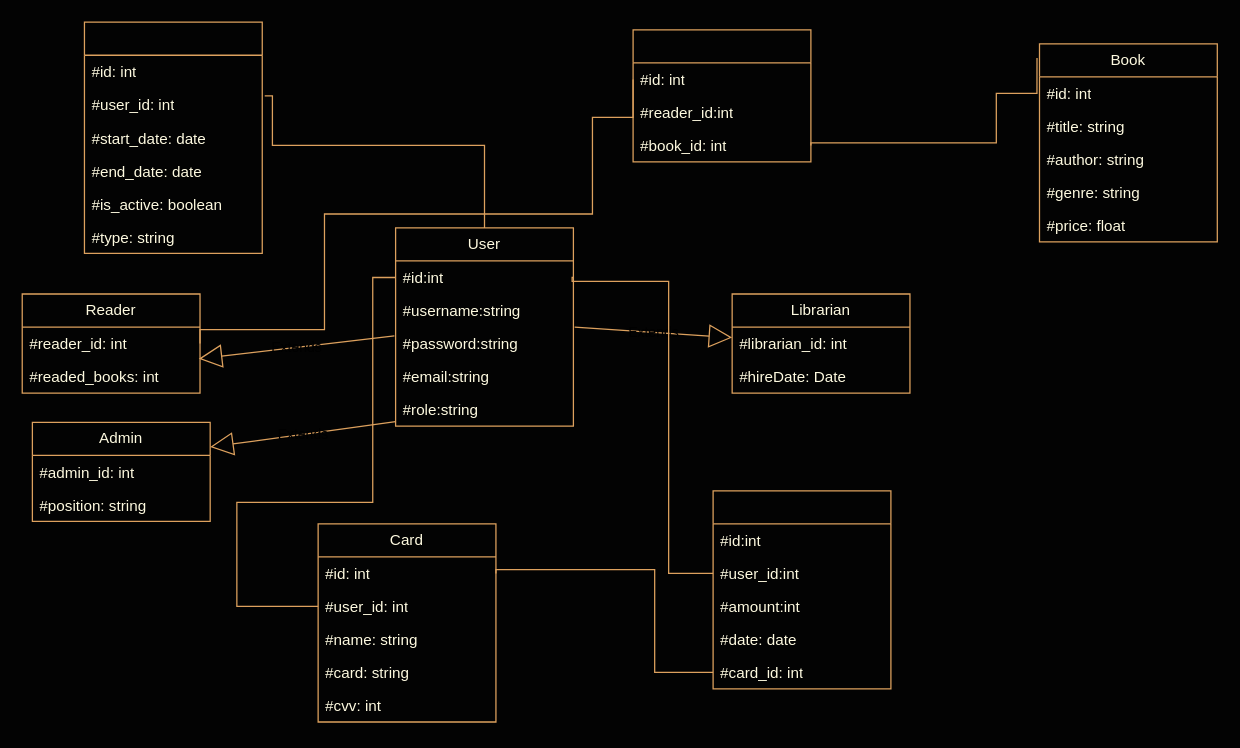
The diagram is 1240 pixels wide and 748 high, and some of its shapes have lost their labels. Here are the shapes that lost their labels. From the top down, the box of each, then its label:
(632, 29, 811, 162): History
(83, 21, 262, 253): Subscription
(712, 490, 891, 689): Payment
